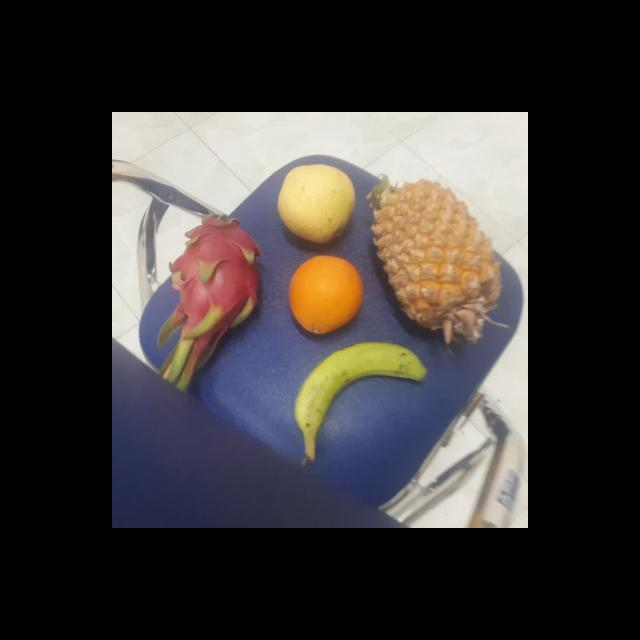banana: (293, 340, 419, 444)
orange: (285, 254, 363, 334)
pear: (274, 164, 362, 244)
pitaya: (168, 217, 262, 331)
